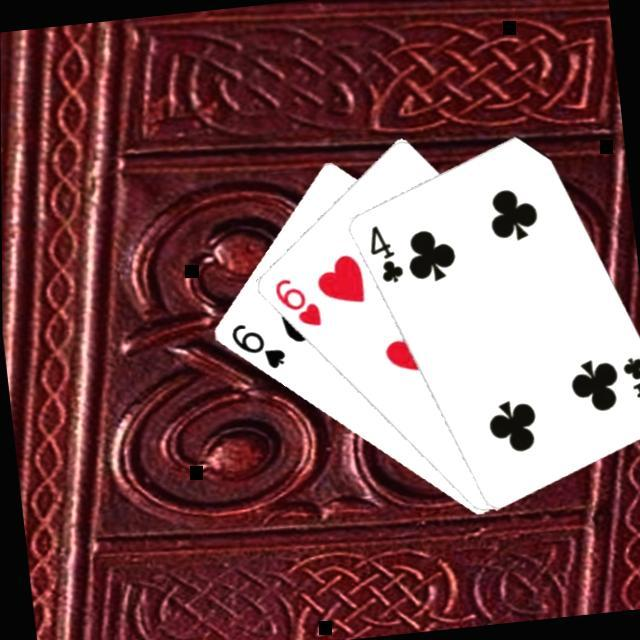4C: (364, 220, 409, 290), (618, 353, 640, 422)
6H: (270, 273, 326, 335)
6S: (227, 317, 290, 377)
